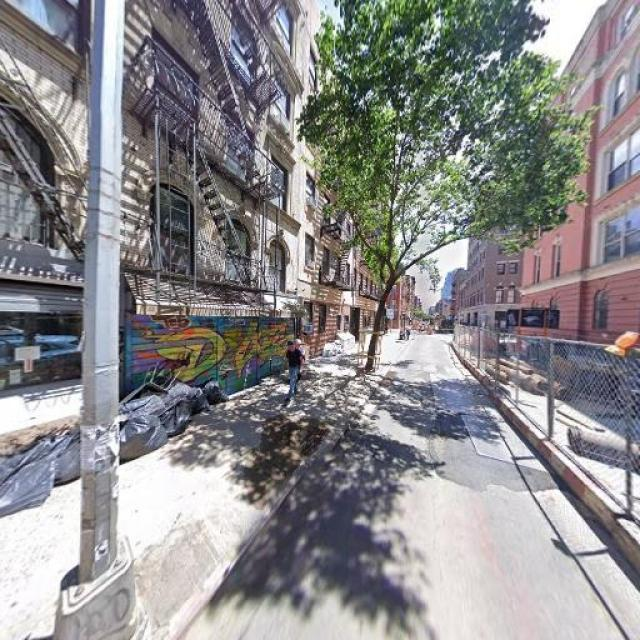Building: (1, 1, 295, 474), (520, 1, 640, 402)
